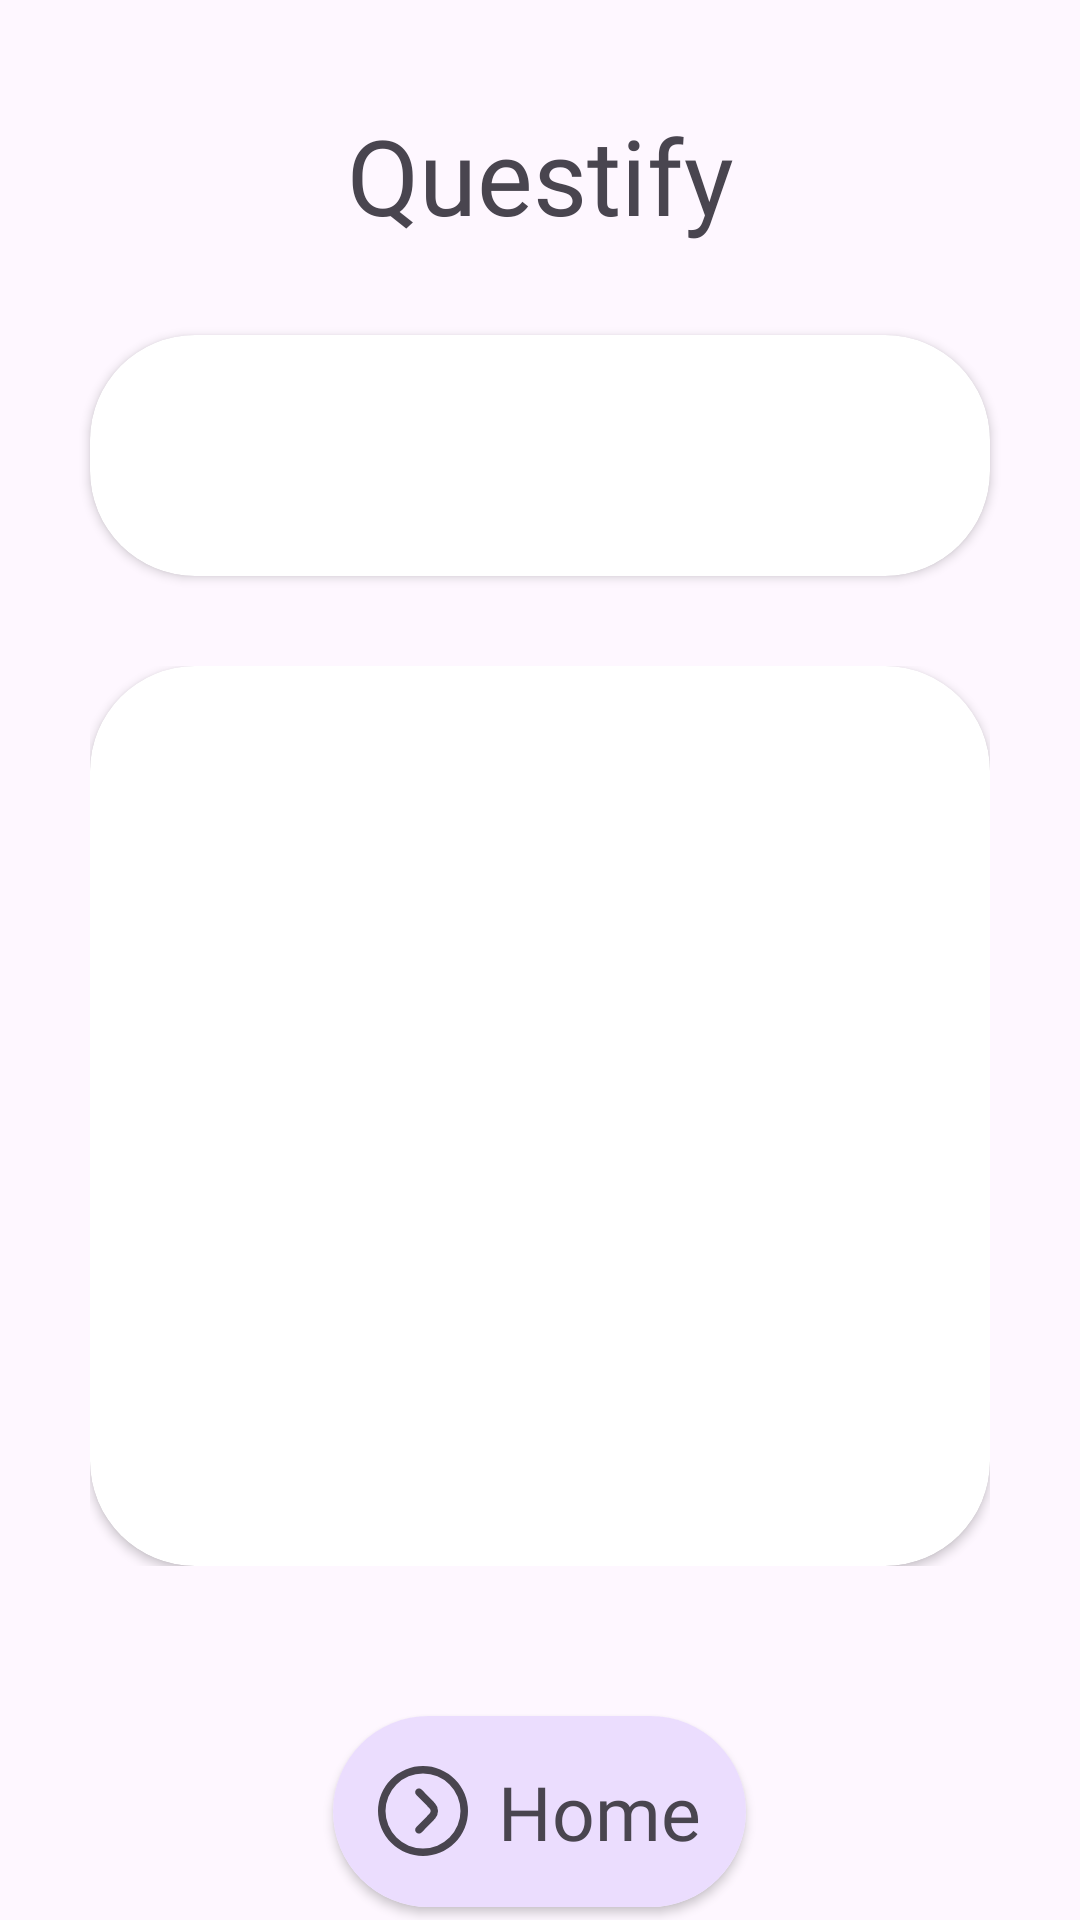

Point at icon controls on the screen. Image size 1080×1920, points as (x=x, y=y).
next: (x=423, y=1811)
